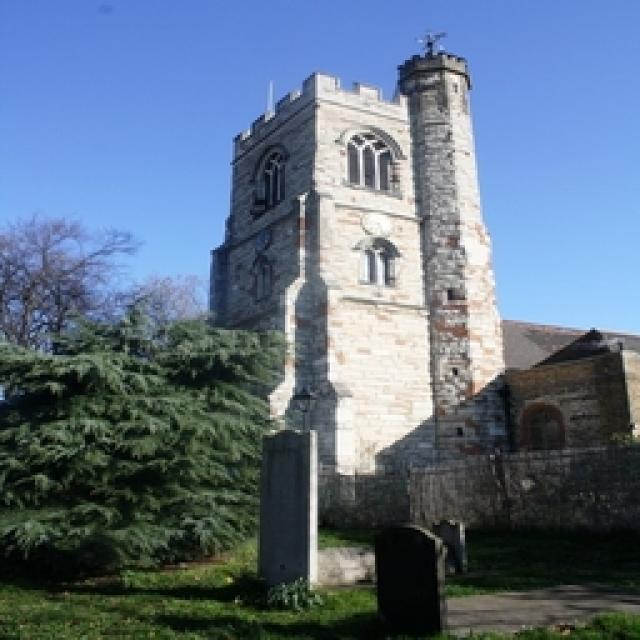Abbey: (225, 47, 530, 545)
